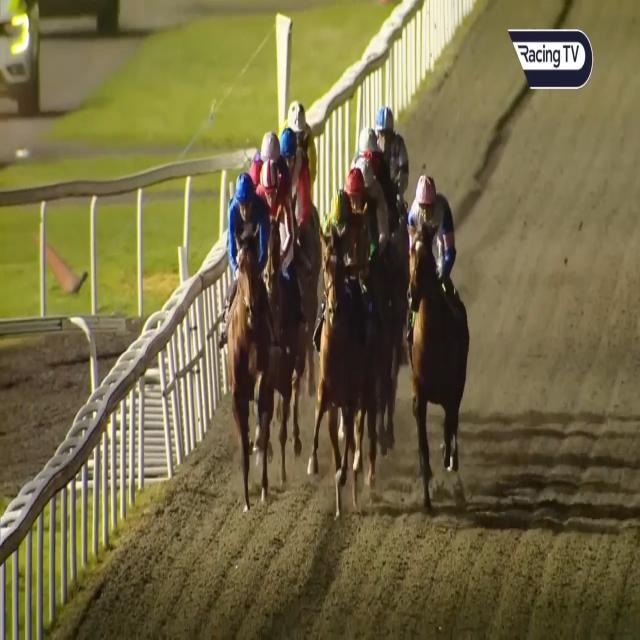horses-racing: (223, 177, 281, 503), (412, 170, 458, 482), (325, 188, 359, 502), (252, 154, 298, 278), (374, 102, 418, 208), (273, 124, 310, 245), (283, 95, 320, 158), (337, 166, 372, 212), (251, 131, 285, 171), (346, 148, 376, 188), (355, 128, 383, 164)
